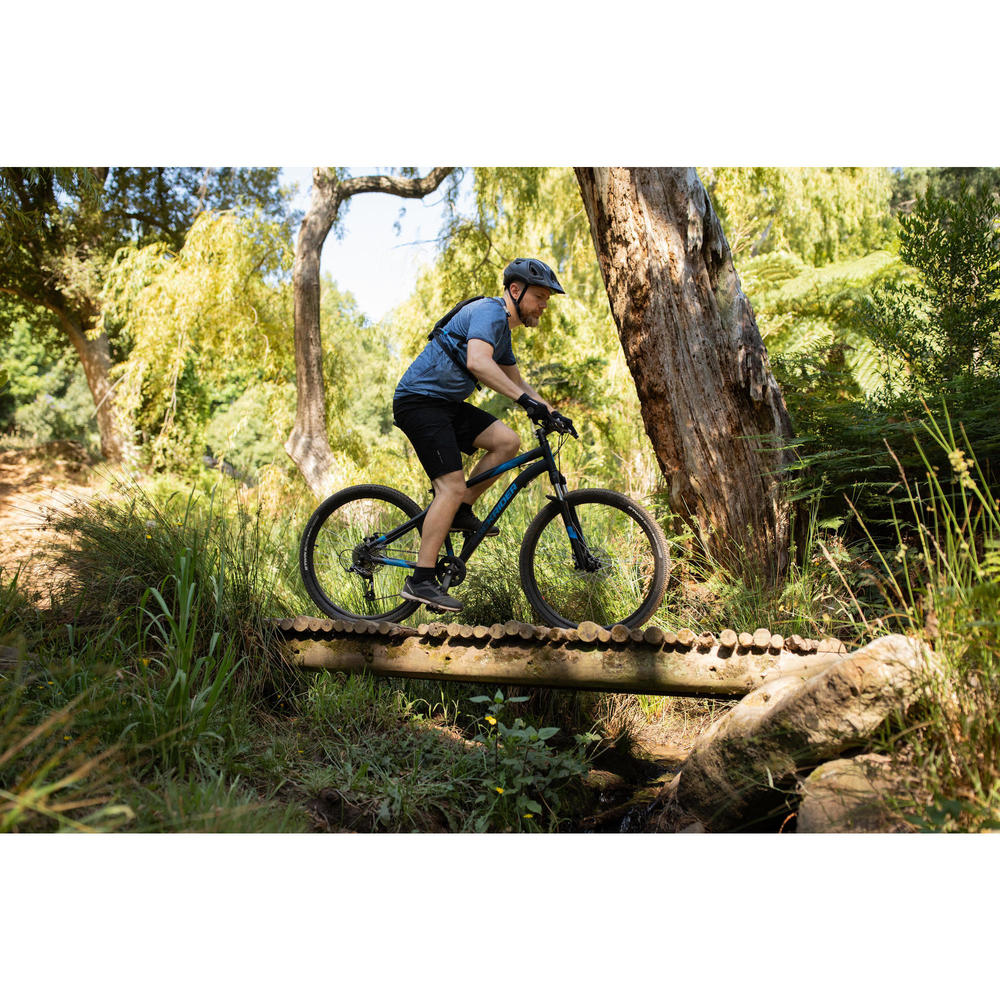MountainBike: (289, 394, 660, 635)
